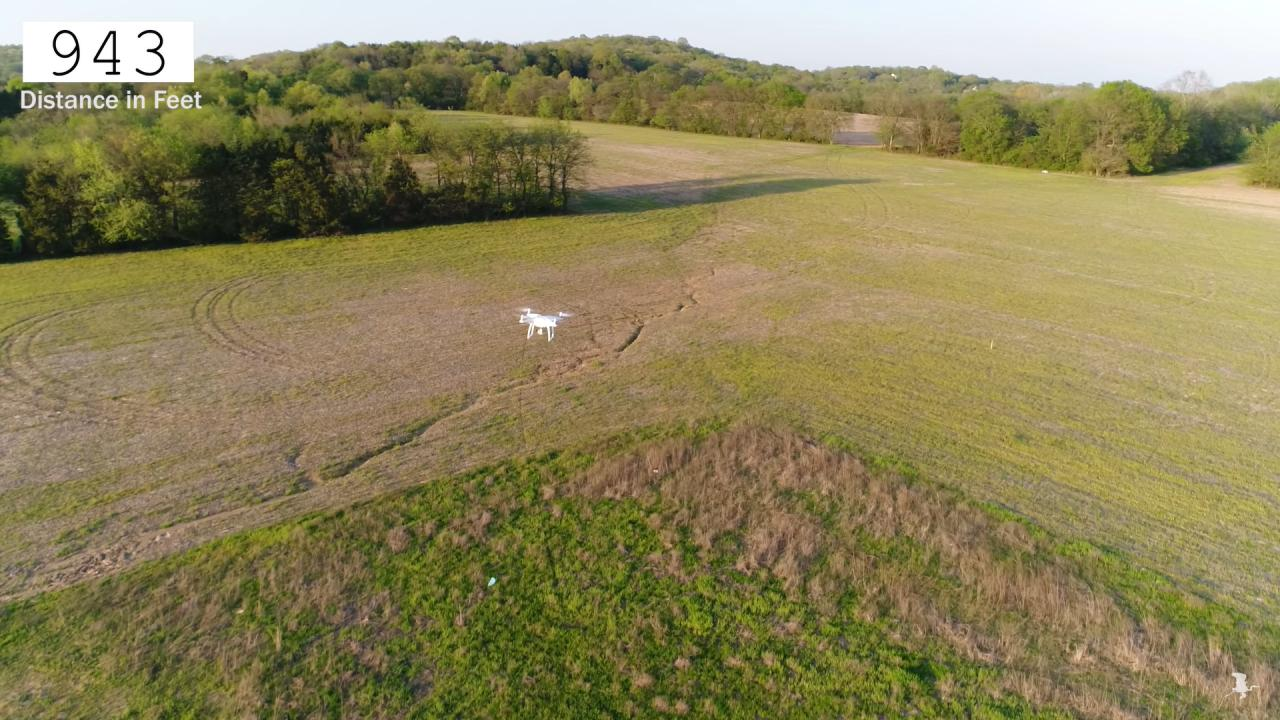Drone: (508, 298, 581, 346)
